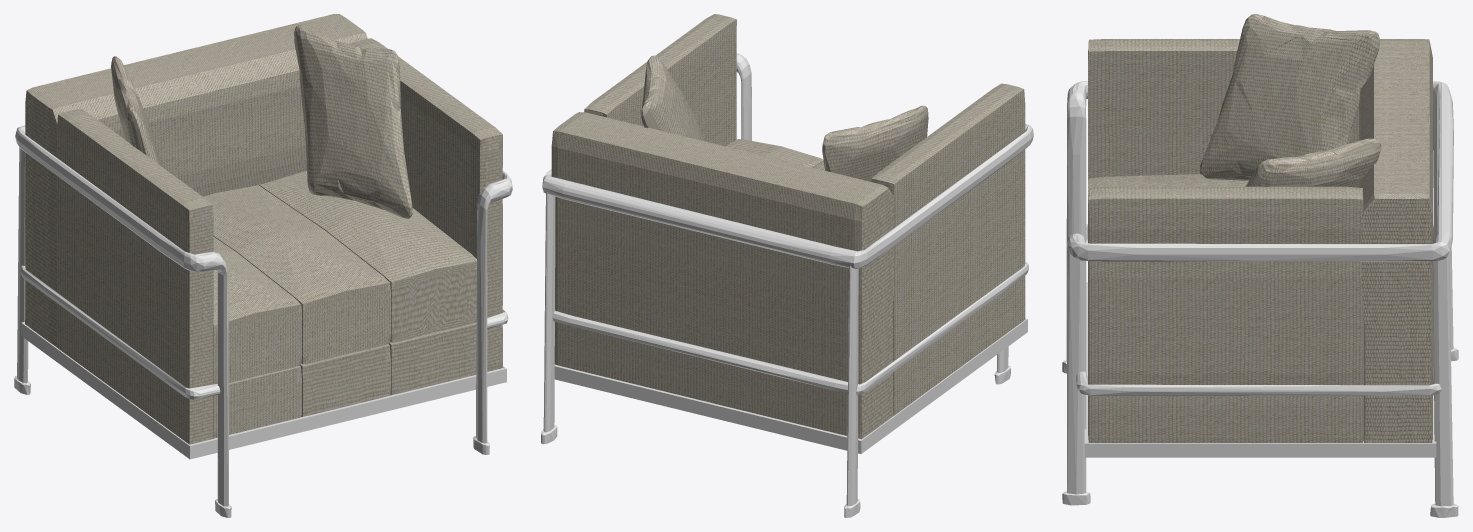
The model's file is sh-bs0-couch.glb.
3 views of the same model, side by side, from view 1: azimuth 30°, elevation 25°; view 2: azimuth 150°, elevation 25°; view 3: azimuth 270°, elevation 25° (orthographic). The views are drawn at different scales.
Visible parts, largest first — view 1: Couch_Arms_Cube.002, Couch_Bars_Circle, Pillow_Cube.007; view 2: Couch_Arms_Cube.002, Couch_Bars_Circle, Pillow_Cube.007; view 3: Couch_Arms_Cube.002, Couch_Bars_Circle, Pillow_Cube.007.
Part boxes in pixels (bbox=[...]): Couch_Arms_Cube.002: bbox=[25, 14, 502, 444]; Couch_Bars_Circle: bbox=[14, 125, 512, 517]; Pillow_Cube.007: bbox=[111, 25, 412, 218]; Couch_Arms_Cube.002: bbox=[551, 14, 1025, 439]; Couch_Bars_Circle: bbox=[541, 53, 1033, 517]; Pillow_Cube.007: bbox=[641, 55, 928, 181]; Couch_Arms_Cube.002: bbox=[1088, 39, 1432, 442]; Couch_Bars_Circle: bbox=[1062, 81, 1458, 517]; Pillow_Cube.007: bbox=[1199, 14, 1381, 187].
Bounding box in the file's own units: 0.9978 × 0.9998 × 0.9994.
Materials: 3 (2 with a texture image).
